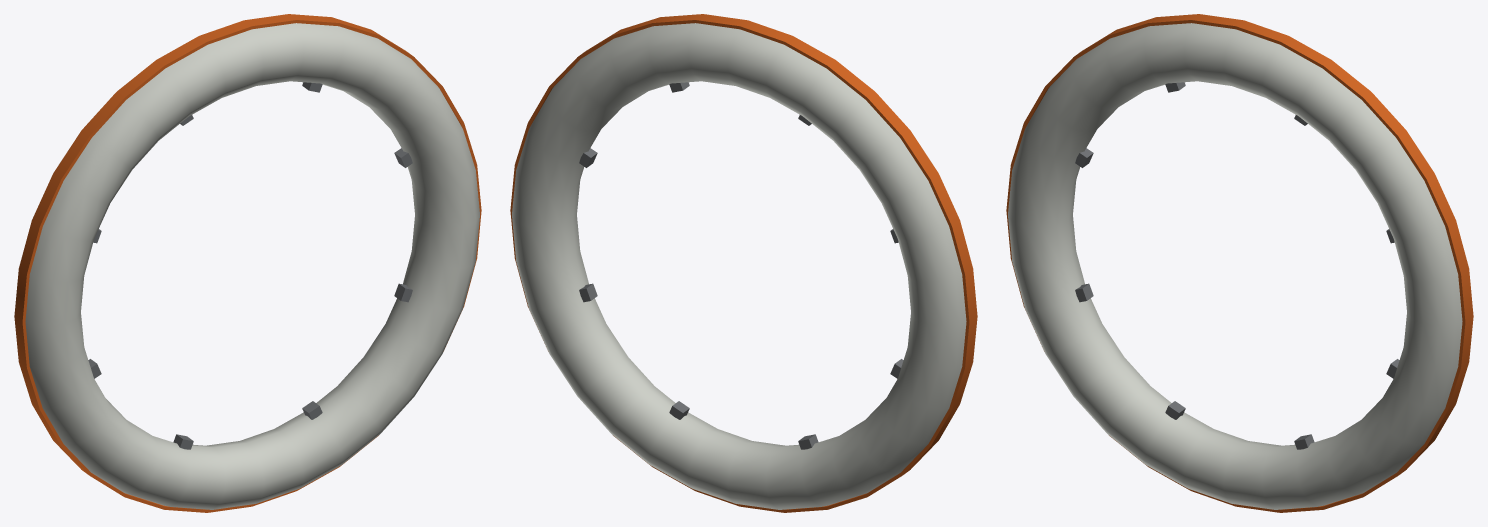
3 views of the same model, side by side, from view 1: azimuth 30°, elevation 25°; view 2: azimuth 150°, elevation 25°; view 3: azimuth 330°, elevation 25° (orthographic).
Visible parts, largest first — view 1: u70_hx; view 2: u70_hx; view 3: u70_hx.
Part boxes in pixels (left/top/right/bottom): u70_hx: left=14, top=14, right=481, bottom=512; u70_hx: left=510, top=14, right=977, bottom=512; u70_hx: left=1006, top=14, right=1473, bottom=512.
Bounding box in the file's own units: 3.91 × 3.91 × 0.48.
